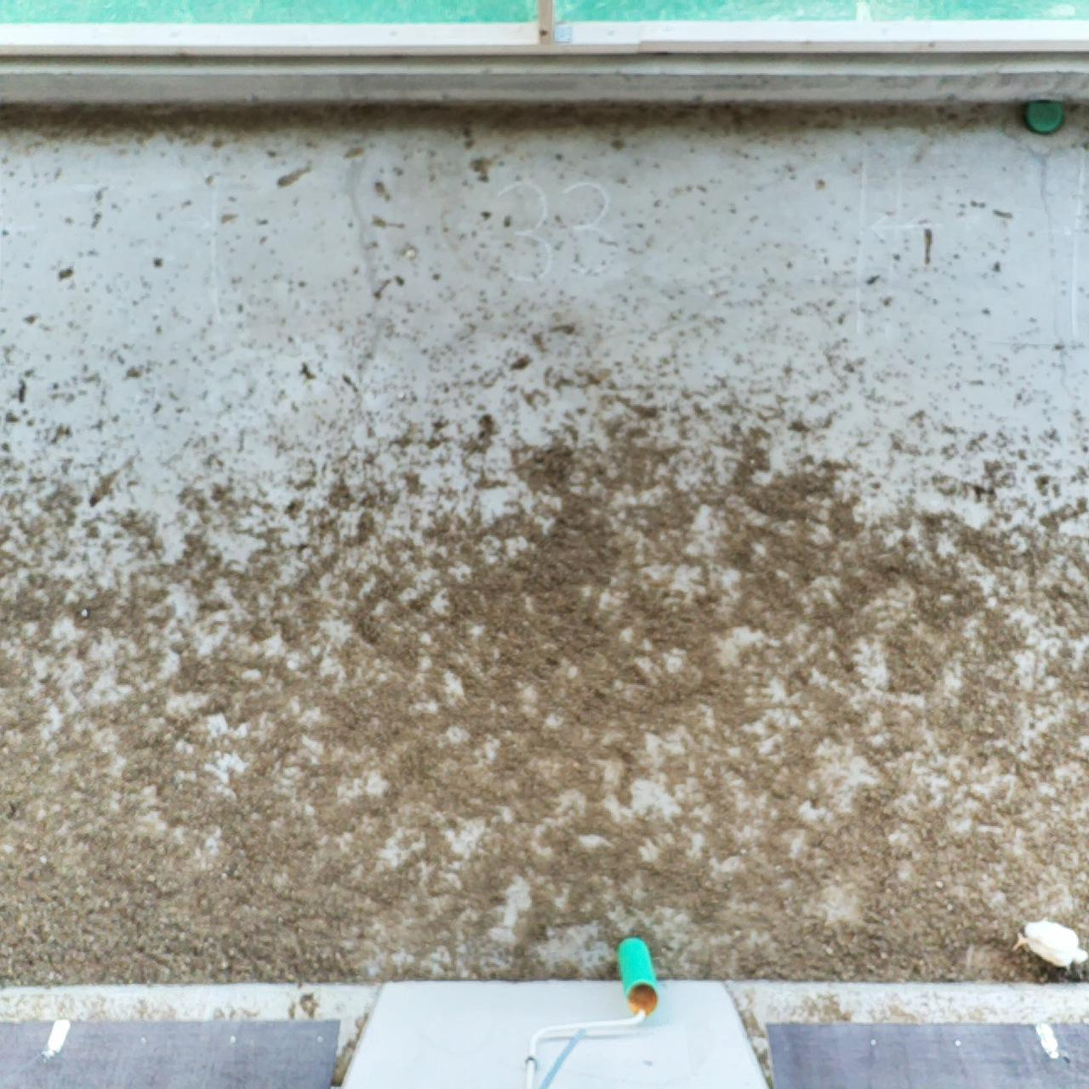chicken: (1011, 914, 1089, 979)
